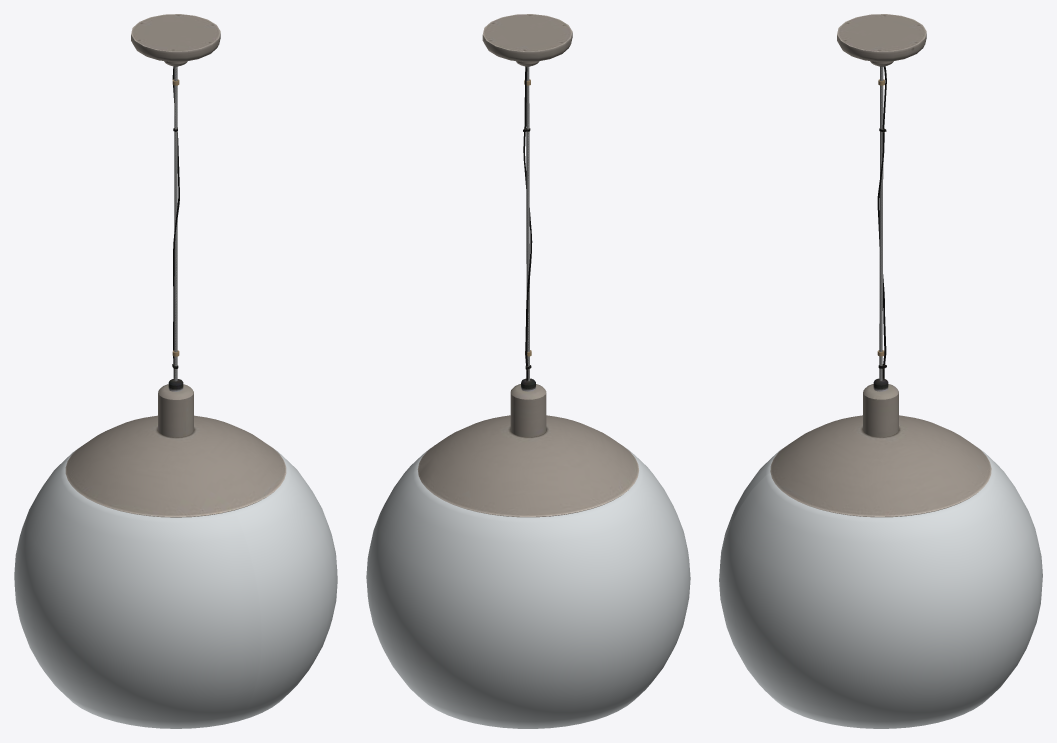
The model's file is PendantLampGlobe.obj.
3 renders of one model, left to right at view 1: azimuth 30°, elevation 25°; view 2: azimuth 150°, elevation 25°; view 3: azimuth 270°, elevation 25°, orthographic.
Visible parts, largest first — view 1: GlassShade, Fitting; view 2: GlassShade, Fitting; view 3: GlassShade, Fitting.
Part boxes in pixels (box(x1,y1,x2,y2)): GlassShade: box(14, 448, 337, 728); Fitting: box(65, 14, 286, 517); GlassShade: box(366, 447, 690, 728); Fitting: box(417, 14, 638, 517); GlassShade: box(719, 447, 1042, 728); Fitting: box(770, 14, 991, 517).
Size of the model in its own units: 0.4316 by 0.9516 by 0.4316.
Materials: 3 (2 with a texture image).
